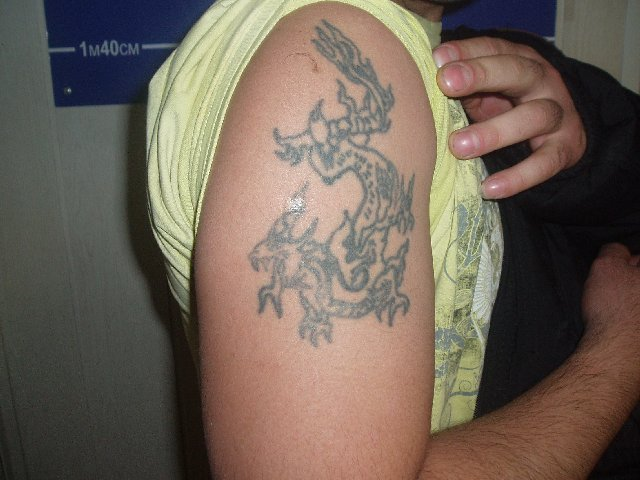tatu6_drakon: (246, 16, 426, 348)
